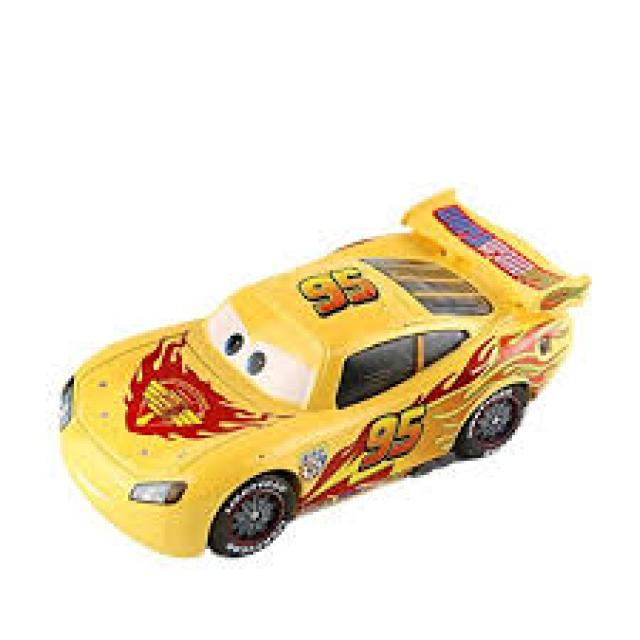Car: (46, 191, 589, 558)
